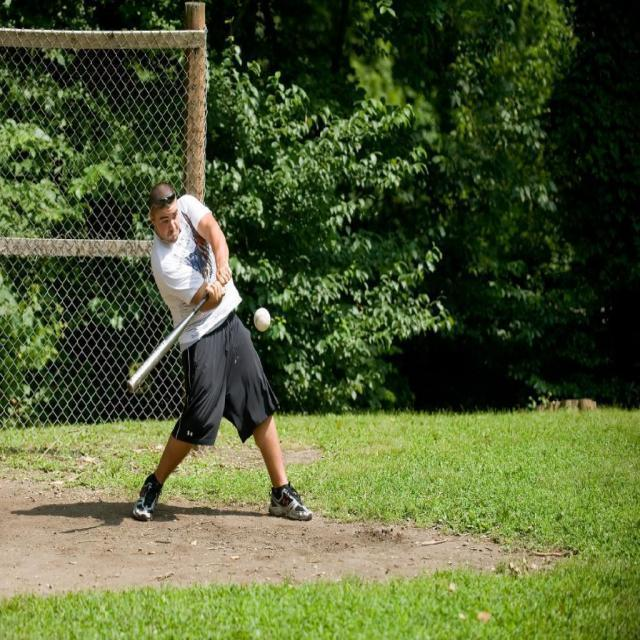baseball bat: (124, 301, 203, 394)
sports ball: (253, 308, 274, 332)
